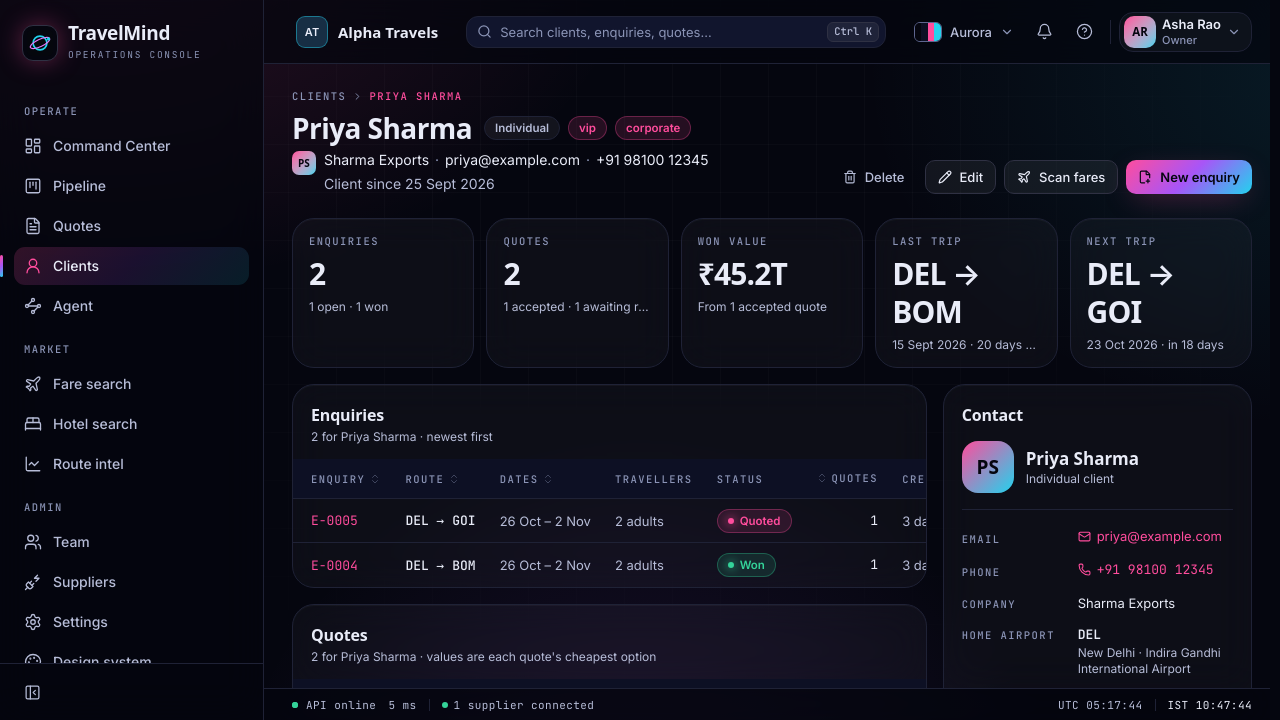
Test: New enquiry opens the Command Center dialog with the client already picked
This screenshot has width=1280, height=720.
What coordinates should you click on to do the following:
click the button "New enquiry"
I would click on:
 (1189, 177)
Its box is [1126, 160, 1252, 194].
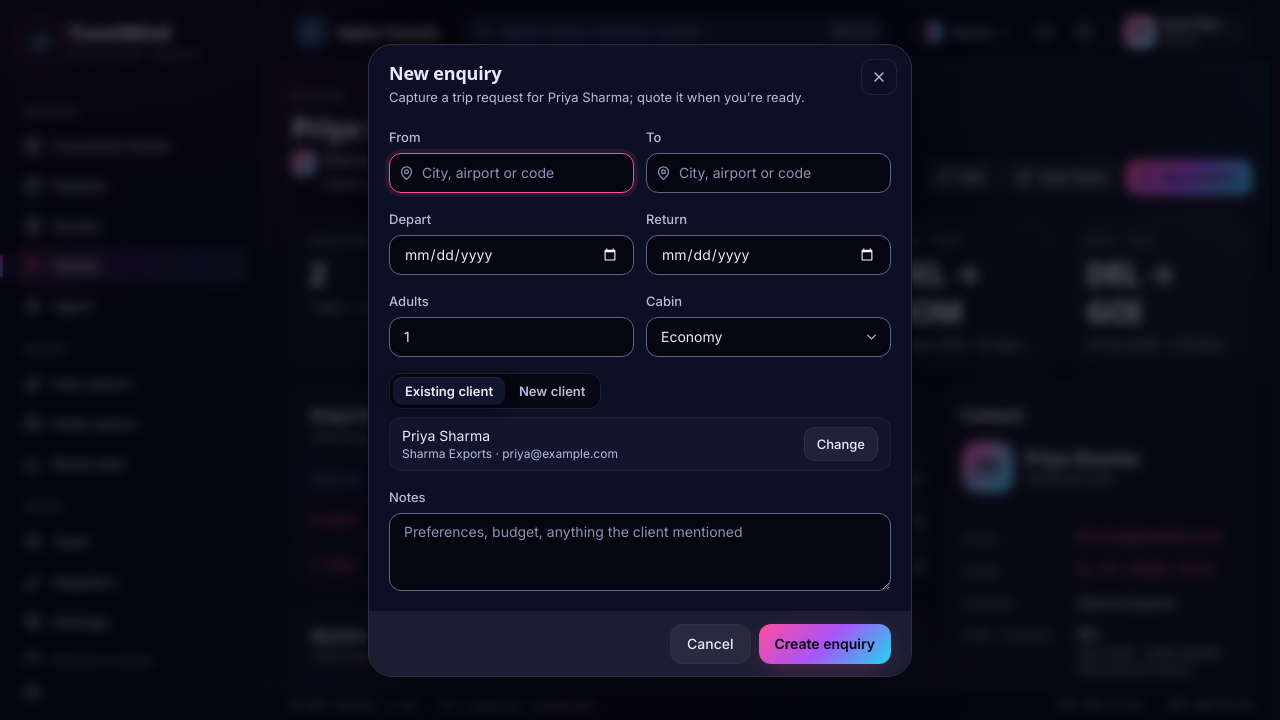
expect the text "Priya Sharma" is shown: met, box [402, 426, 490, 444]
expect the button with aria-label "Change client" is shown: met, box [804, 426, 878, 460]
What coordinates should you click on to do the following:
click the button "Create enquiry"
I would click on:
 (825, 644)
Its box is [758, 624, 891, 664].
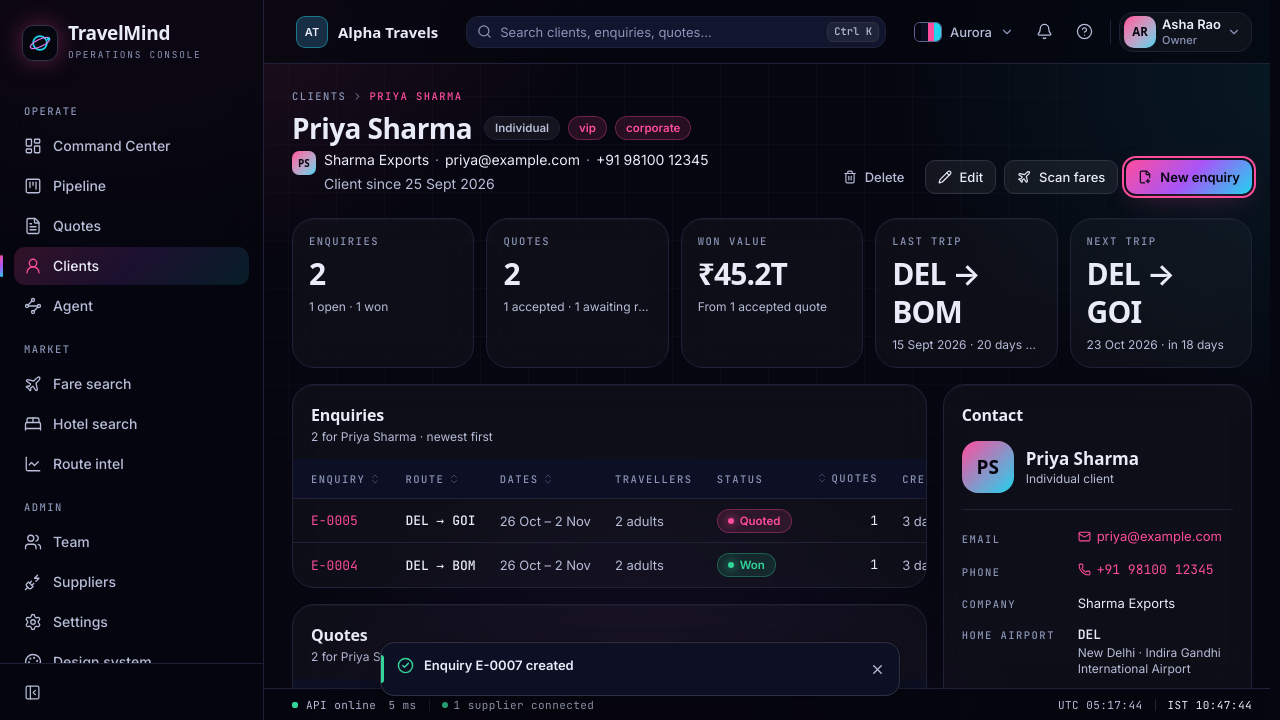
expect the text "Enquiry E-0007 created" is shown: met, box [424, 657, 574, 673]
